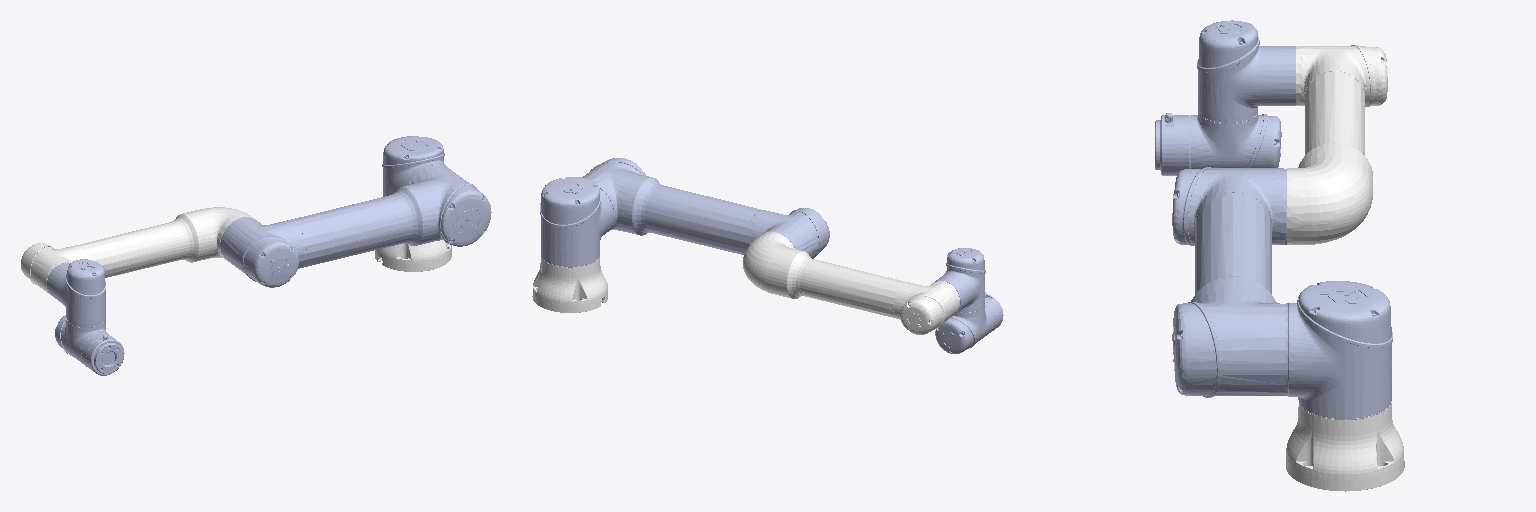
The robot description file, URDF, robot "cs66_arm_description":
<?xml version="1.0" encoding="utf-8"?>
<!-- This URDF was automatically created by SolidWorks to URDF Exporter! Originally created by Stephen Brawner (brawner@gmail.com) 
     Commit Version: 1.6.0-4-g7f85cfe  Build Version: 1.6.7995.38578
     For more information, please see http://wiki.ros.org/sw_urdf_exporter -->
<robot
  name="cs66_arm_description">
  <link
    name="base_link">
    <inertial>
      <origin
        xyz="0.00081946883079673 -0.000383332347024022 0.0602207037328445"
        rpy="0 0 0" />
      <mass
        value="0.571272619364651" />
      <inertia
        ixx="0.00107590370938154"
        ixy="7.51470377634478E-08"
        ixz="-1.32176882073438E-05"
        iyy="0.00101086034621892"
        iyz="4.56429367850035E-07"
        izz="0.00140801936700209" />
    </inertial>
    <visual>
      <origin
        xyz="0 0 0"
        rpy="0 0 0" />
      <geometry>
        <mesh
          filename="package://cs66_arm_description/meshes/base_link.STL" />
      </geometry>
      <material
        name="">
        <color
          rgba="1 1 1 1" />
      </material>
    </visual>
    <collision>
      <origin
        xyz="0 0 0"
        rpy="0 0 0" />
      <geometry>
        <mesh
          filename="package://cs66_arm_description/meshes/base_link.STL" />
      </geometry>
    </collision>
  </link>
  <link
    name="Link_1">
    <inertial>
      <origin
        xyz="-5.4482E-06 -0.0077242 0.067391"
        rpy="0 0 0" />
      <mass
        value="1.7922" />
      <inertia
        ixx="0.0048641"
        ixy="-4.7628E-08"
        ixz="6.0223E-07"
        iyy="0.0045007"
        iyz="4.414E-05"
        izz="0.0036603" />
    </inertial>
    <visual>
      <origin
        xyz="0 0 0"
        rpy="0 0 0" />
      <geometry>
        <mesh
          filename="package://cs66_arm_description/meshes/Link_1.STL" />
      </geometry>
      <material
        name="">
        <color
          rgba="0.79216 0.81961 0.93333 1" />
      </material>
    </visual>
    <collision>
      <origin
        xyz="0 0 0"
        rpy="0 0 0" />
      <geometry>
        <mesh
          filename="package://cs66_arm_description/meshes/Link_1.STL" />
      </geometry>
    </collision>
  </link>
  <joint
    name="joint_1"
    type="continuous">
    <origin
      xyz="0.0014232 -0.00039746 0.096"
      rpy="0 0 0" />
    <parent
      link="base_link" />
    <child
      link="Link_1" />
    <axis
      xyz="0 0 1" />
  </joint>
  <link
    name="Link_2">
    <inertial>
      <origin
        xyz="-0.189304749779042 4.12457812806744E-06 0.0673436646185289"
        rpy="0 0 0" />
      <mass
        value="5.26083251074483" />
      <inertia
        ixx="0.00986127044062744"
        ixy="-1.9618815656375E-06"
        ixz="0.000398582240348808"
        iyy="0.150013165511853"
        iyz="-4.2870082555799E-07"
        izz="0.147760972442848" />
    </inertial>
    <visual>
      <origin
        xyz="0 0 0"
        rpy="0 0 0" />
      <geometry>
        <mesh
          filename="package://cs66_arm_description/meshes/Link_2.STL" />
      </geometry>
      <material
        name="">
        <color
          rgba="0.792156862745098 0.819607843137255 0.933333333333333 1" />
      </material>
    </visual>
    <collision>
      <origin
        xyz="0 0 0"
        rpy="0 0 0" />
      <geometry>
        <mesh
          filename="package://cs66_arm_description/meshes/Link_2.STL" />
      </geometry>
    </collision>
  </link>
  <joint
    name="joint_2"
    type="continuous">
    <origin
      xyz="0 -0.0745 0.0665"
      rpy="1.5708 0 0" />
    <parent
      link="Link_1" />
    <child
      link="Link_2" />
    <axis
      xyz="0 0 1" />
  </joint>
  <link
    name="Link_3">
    <inertial>
      <origin
        xyz="-0.182694891859204 2.46130326578275E-06 -0.0583572427400172"
        rpy="0 0 0" />
      <mass
        value="2.72916096503529" />
      <inertia
        ixx="0.00305708688085998"
        ixy="-1.12583921289881E-06"
        ixz="-0.00265416678890422"
        iyy="0.0588372413495089"
        iyz="9.21787808856972E-08"
        izz="0.0582264071022226" />
    </inertial>
    <visual>
      <origin
        xyz="0 0 0"
        rpy="0 0 0" />
      <geometry>
        <mesh
          filename="package://cs66_arm_description/meshes/Link_3.STL" />
      </geometry>
      <material
        name="">
        <color
          rgba="1 1 1 1" />
      </material>
    </visual>
    <collision>
      <origin
        xyz="0 0 0"
        rpy="0 0 0" />
      <geometry>
        <mesh
          filename="package://cs66_arm_description/meshes/Link_3.STL" />
      </geometry>
    </collision>
  </link>
  <joint
    name="joint_3"
    type="continuous">
    <origin
      xyz="-0.427 0 -0.0007"
      rpy="0 0 0" />
    <parent
      link="Link_2" />
    <child
      link="Link_3" />
    <axis
      xyz="0 0 1" />
  </joint>
  <link
    name="Link_4">
    <inertial>
      <origin
        xyz="1.78181844301406E-06 0.00475921552089739 0.0664196029768521"
        rpy="0 0 0" />
      <mass
        value="0.751687617433825" />
      <inertia
        ixx="0.00142457870934565"
        ixy="-8.9833612649778E-08"
        ixz="-1.84239580489315E-08"
        iyy="0.00107758626595922"
        iyz="-5.88720985485155E-05"
        izz="0.000907375014854152" />
    </inertial>
    <visual>
      <origin
        xyz="0 0 0"
        rpy="0 0 0" />
      <geometry>
        <mesh
          filename="package://cs66_arm_description/meshes/Link_4.STL" />
      </geometry>
      <material
        name="">
        <color
          rgba="0.792156862745098 0.819607843137255 0.933333333333333 1" />
      </material>
    </visual>
    <collision>
      <origin
        xyz="0 0 0"
        rpy="0 0 0" />
      <geometry>
        <mesh
          filename="package://cs66_arm_description/meshes/Link_4.STL" />
      </geometry>
    </collision>
  </link>
  <joint
    name="joint_4"
    type="continuous">
    <origin
      xyz="-0.3905 0 -0.0118"
      rpy="0 0 0" />
    <parent
      link="Link_3" />
    <child
      link="Link_4" />
    <axis
      xyz="0 0 1" />
  </joint>
  <link
    name="Link_5">
    <inertial>
      <origin
        xyz="-2.69082218540273E-06 -0.00617558033244062 0.042530912812344"
        rpy="0 0 0" />
      <mass
        value="0.579305281426621" />
      <inertia
        ixx="0.000833552143858488"
        ixy="-8.65443740590441E-08"
        ixz="-3.35598039181694E-09"
        iyy="0.000491632907987039"
        iyz="8.38962000224339E-06"
        izz="0.000777854786715601" />
    </inertial>
    <visual>
      <origin
        xyz="0 0 0"
        rpy="0 0 0" />
      <geometry>
        <mesh
          filename="package://cs66_arm_description/meshes/Link_5.STL" />
      </geometry>
      <material
        name="">
        <color
          rgba="0.792156862745098 0.819607843137255 0.933333333333333 1" />
      </material>
    </visual>
    <collision>
      <origin
        xyz="0 0 0"
        rpy="0 0 0" />
      <geometry>
        <mesh
          filename="package://cs66_arm_description/meshes/Link_5.STL" />
      </geometry>
    </collision>
  </link>
  <joint
    name="joint_5"
    type="continuous">
    <origin
      xyz="0 -0.049 0.0855"
      rpy="1.5708 0 0" />
    <parent
      link="Link_4" />
    <child
      link="Link_5" />
    <axis
      xyz="0 0 1" />
  </joint>
  <link
    name="Link_6">
    <inertial>
      <origin
        xyz="-1.62861168995221E-10 -0.000150247411436807 0.0198932547747776"
        rpy="0 0 0" />
      <mass
        value="0.178606323427537" />
      <inertia
        ixx="8.73395638411234E-05"
        ixy="7.66356437479469E-13"
        ixz="5.92450491627958E-13"
        iyy="8.81103451063961E-05"
        iyz="2.14643952959351E-07"
        izz="0.000126746769992653" />
    </inertial>
    <visual>
      <origin
        xyz="0 0 0"
        rpy="0 0 0" />
      <geometry>
        <mesh
          filename="package://cs66_arm_description/meshes/Link_6.STL" />
      </geometry>
      <material
        name="">
        <color
          rgba="0.792156862745098 0.819607843137255 0.933333333333333 1" />
      </material>
    </visual>
    <collision>
      <origin
        xyz="0 0 0"
        rpy="0 0 0" />
      <geometry>
        <mesh
          filename="package://cs66_arm_description/meshes/Link_6.STL" />
      </geometry>
    </collision>
  </link>
  <joint
    name="joint_6"
    type="continuous">
    <origin
      xyz="0 0.049 0.0475"
      rpy="-1.5708 0 0" />
    <parent
      link="Link_5" />
    <child
      link="Link_6" />
    <axis
      xyz="0 0 1" />
  </joint>
  <link
    name="ee_link" />
  <joint
    name="joint_ee_fixed"
    type="fixed">
    <origin
      xyz="0 0 0.05"
      rpy="0 0 0" />
    <parent
      link="Link_6" />
    <child
      link="ee_link" />
  </joint>
</robot>

--- Render facts (derived) ---
The picture shows the robot from 3 angles, left to right: view 1: azimuth 30°, elevation 25°; view 2: azimuth 150°, elevation 25°; view 3: azimuth 270°, elevation 25°; orthographic projection.
Model cs66_arm_description with 8 links and 7 joints (6 continuous, 1 fixed), rooted at base_link, posed all joints at 0.
Visible links, largest first — view 1: Link_2, Link_3, Link_4, Link_1, base_link, Link_6, Link_5; view 2: Link_2, Link_3, Link_1, base_link, Link_4, Link_5; view 3: Link_2, Link_3, Link_1, Link_4, base_link, Link_5, Link_6.
Link boxes in pixels (x1,y1,x2,y2): Link_2: (220,165,491,287); Link_3: (21,207,255,293); Link_4: (47,259,105,327); Link_1: (382,136,446,196); base_link: (375,240,451,271); Link_6: (82,333,124,375); Link_5: (55,315,107,366); Link_2: (582,158,829,258); Link_3: (743,232,959,334); Link_1: (540,177,613,267); base_link: (532,257,607,312); Link_4: (935,248,985,312); Link_5: (935,304,994,353); Link_2: (1172,167,1288,397); Link_3: (1287,45,1387,244); Link_1: (1289,281,1392,419); Link_4: (1197,20,1295,123); base_link: (1286,402,1404,491); Link_5: (1190,113,1281,168); Link_6: (1155,113,1189,175).
Bounding box of the posed robot: 0.9322 × 0.3144 × 0.2397 m (x, y, z).
Meshes: 7 distinct files referenced, 7 mesh visuals loaded (7 binary STL).
